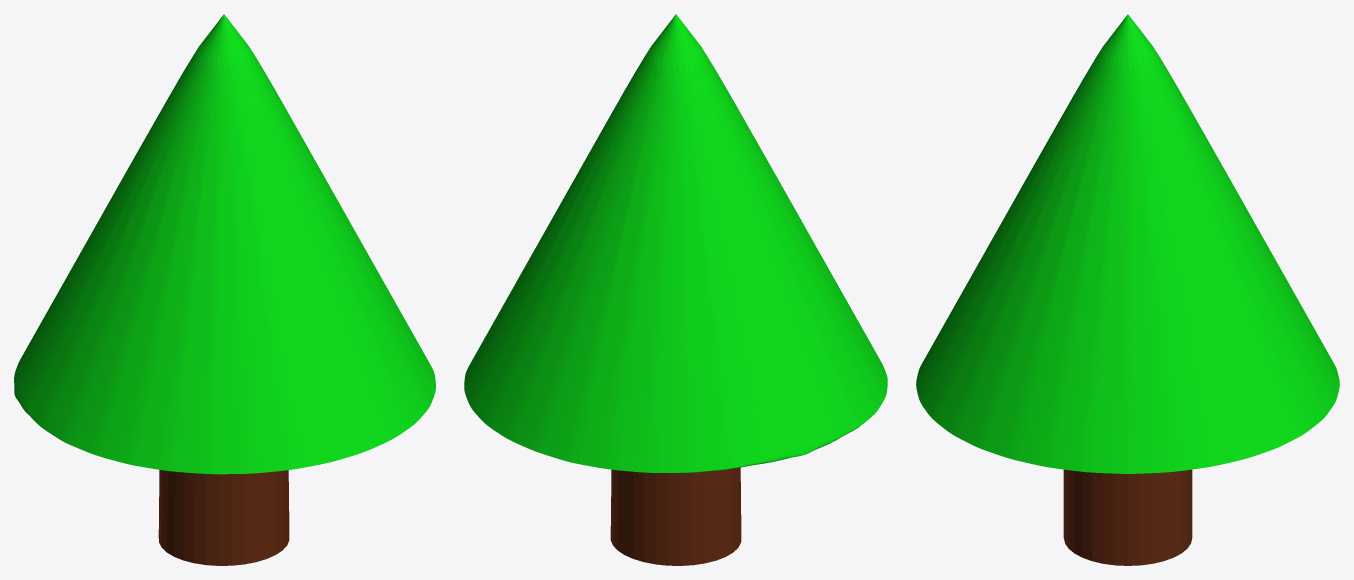
The model's file is Tree_pine.fbx.
3 renders of one model, left to right at view 1: azimuth 30°, elevation 25°; view 2: azimuth 150°, elevation 25°; view 3: azimuth 270°, elevation 25°, orthographic.
Parts seen in each view (by area): view 1: Cone, Cylinder; view 2: Cone, Cylinder; view 3: Cone, Cylinder.
Boxes of the visible parts, x1,y1,x2,y2 form: Cone: (14,14,435,474); Cylinder: (158,470,289,565); Cone: (464,14,887,472); Cylinder: (610,467,741,565); Cone: (916,14,1339,473); Cylinder: (1063,469,1192,565).
Bounding box in the file's own units: 403 × 552 × 404.
